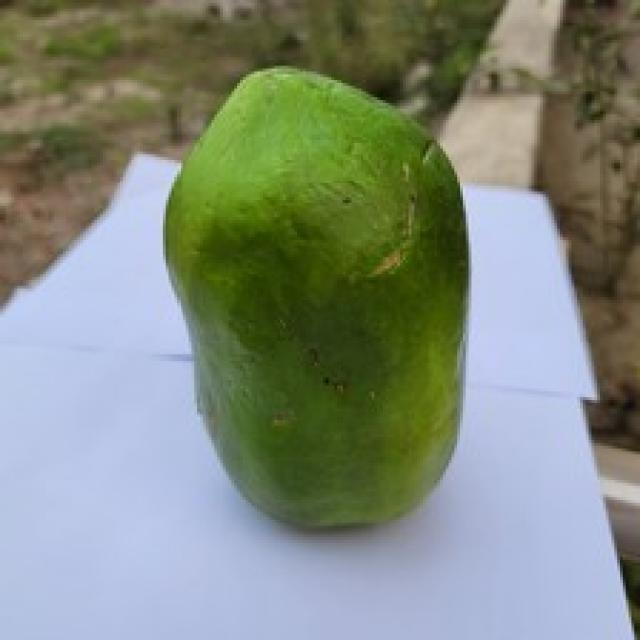Pepaya unrippen: (165, 76, 506, 549)
